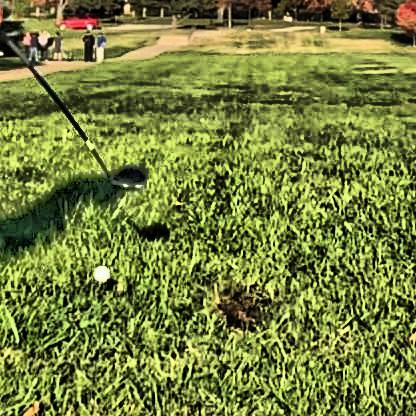golfball: (91, 261, 106, 278)
